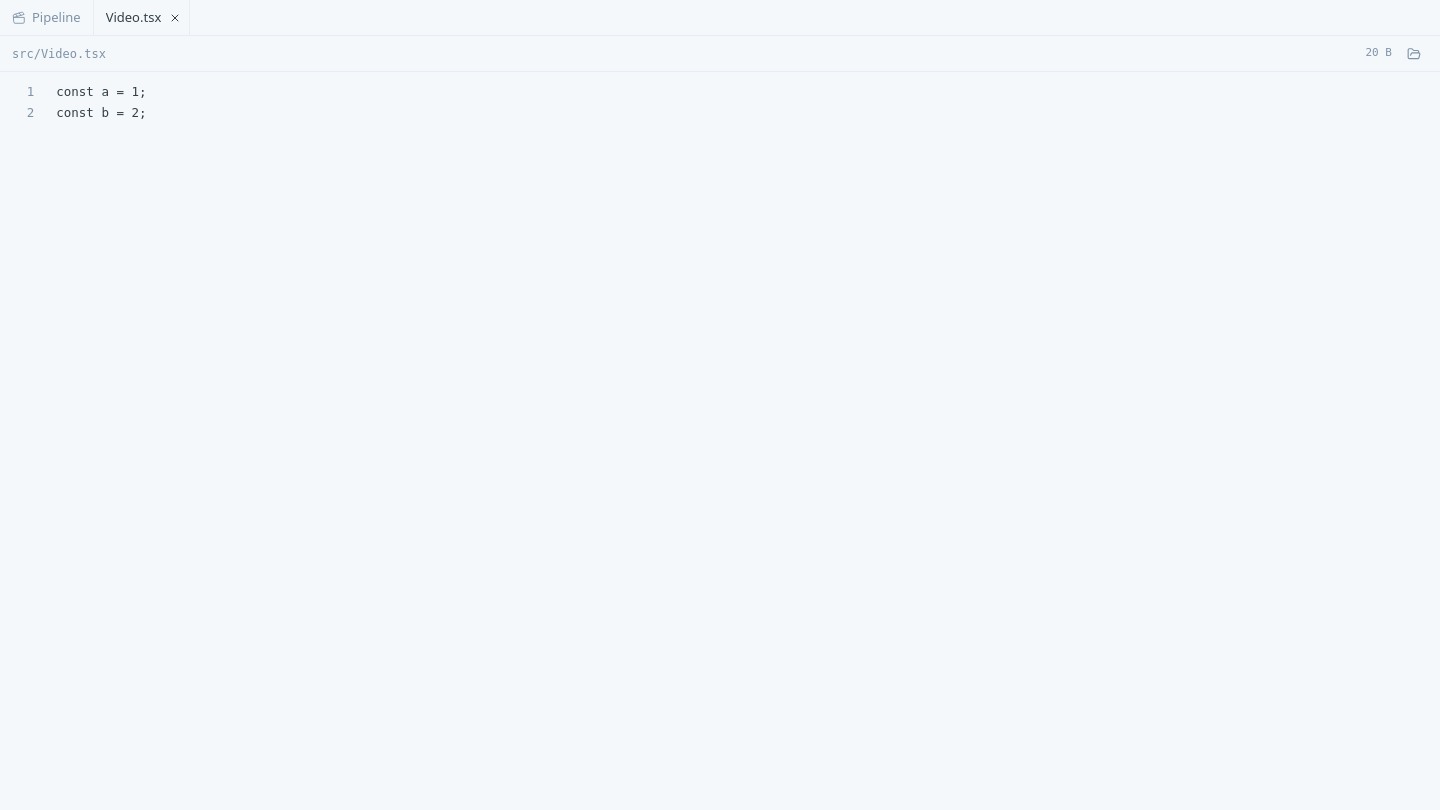
Test: Workspace › shows the preview first, a file in its own tab, and keeps the preview mounted
Later steps or results of the test are not shown.
Check: the element with test id "code" shows "const a = 1;", box [56, 84, 147, 99]
Click the button named "Close src/Video.tsx". click: point(175, 18)
box: [165, 8, 185, 28]
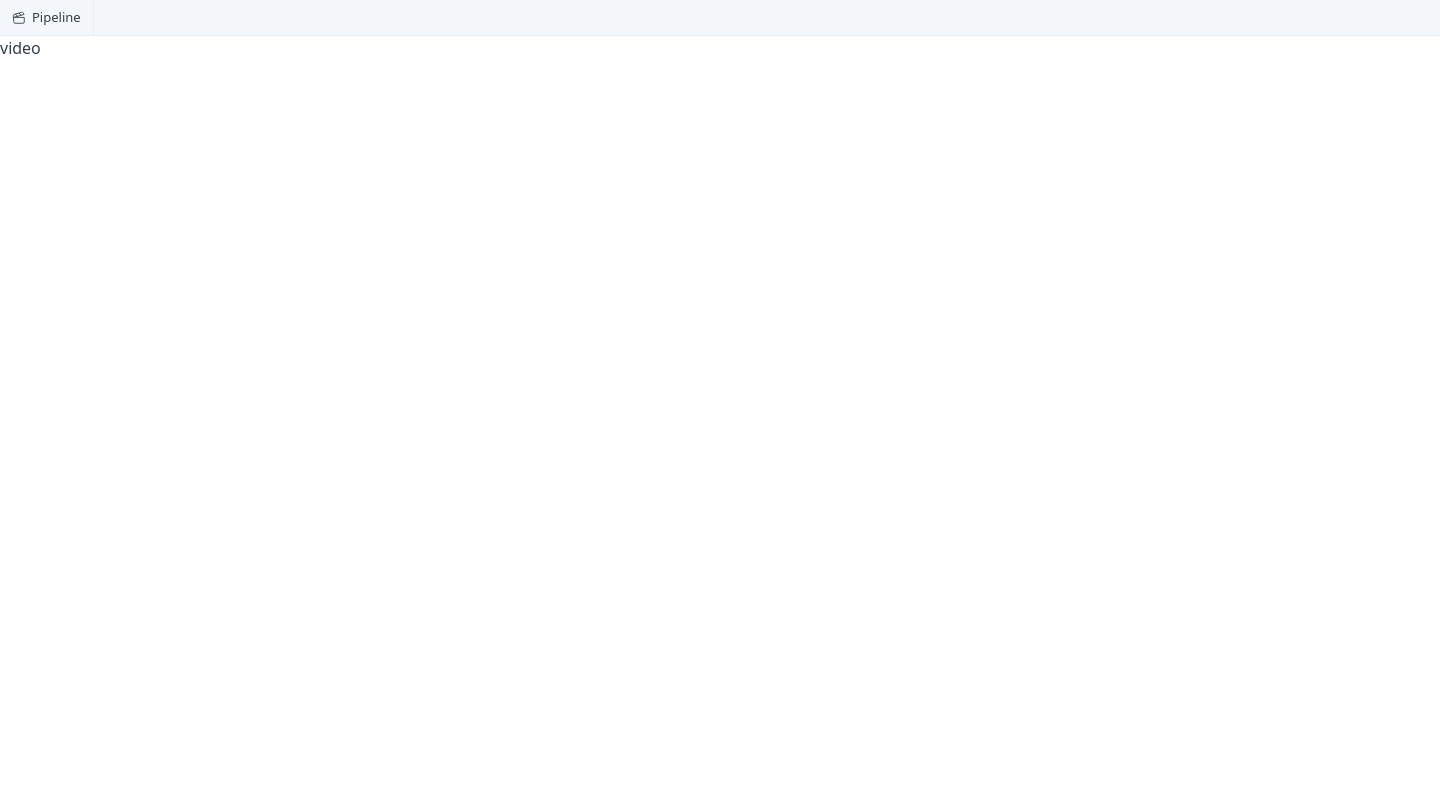
Check: the tab "Video.tsx" is gone
